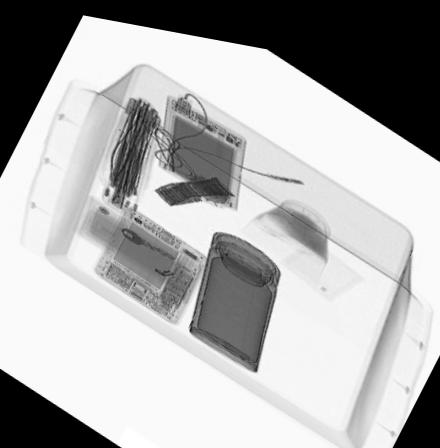Powerbank: (162, 86, 244, 202)
